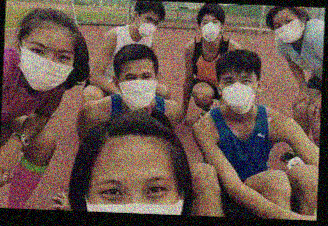with_mask: (85, 173, 184, 213), (19, 38, 75, 91), (117, 70, 158, 111), (221, 73, 258, 113), (274, 15, 303, 44), (199, 16, 223, 41), (136, 14, 160, 38)
